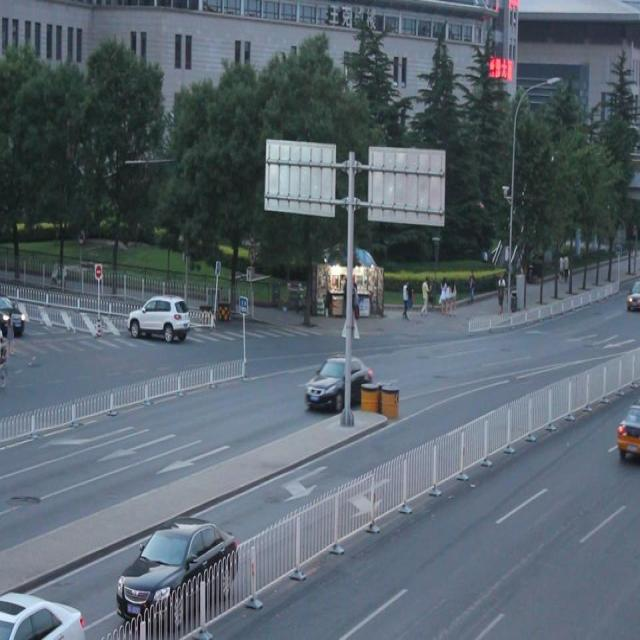car: (117, 514, 238, 622), (0, 585, 84, 640), (306, 352, 373, 410), (128, 292, 190, 344), (615, 399, 640, 464), (1, 298, 24, 337)
